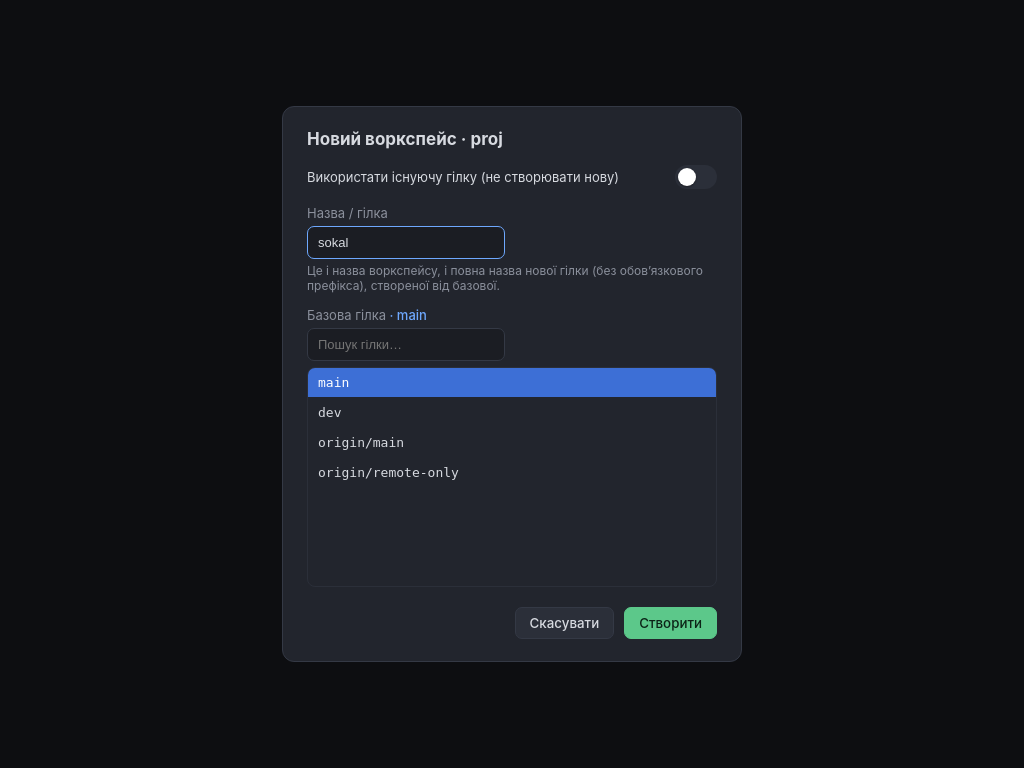
Test: NewWorkspaceModal — existing branch › offers plain branch names only — origin-only ones included, no remote-tracking refs
Expected: the text "dev" is shown, [308,398,716,428]
Click the text "Використати існуючу гілку (не створювати нову)" at (463, 177), box [307,169,619,185]
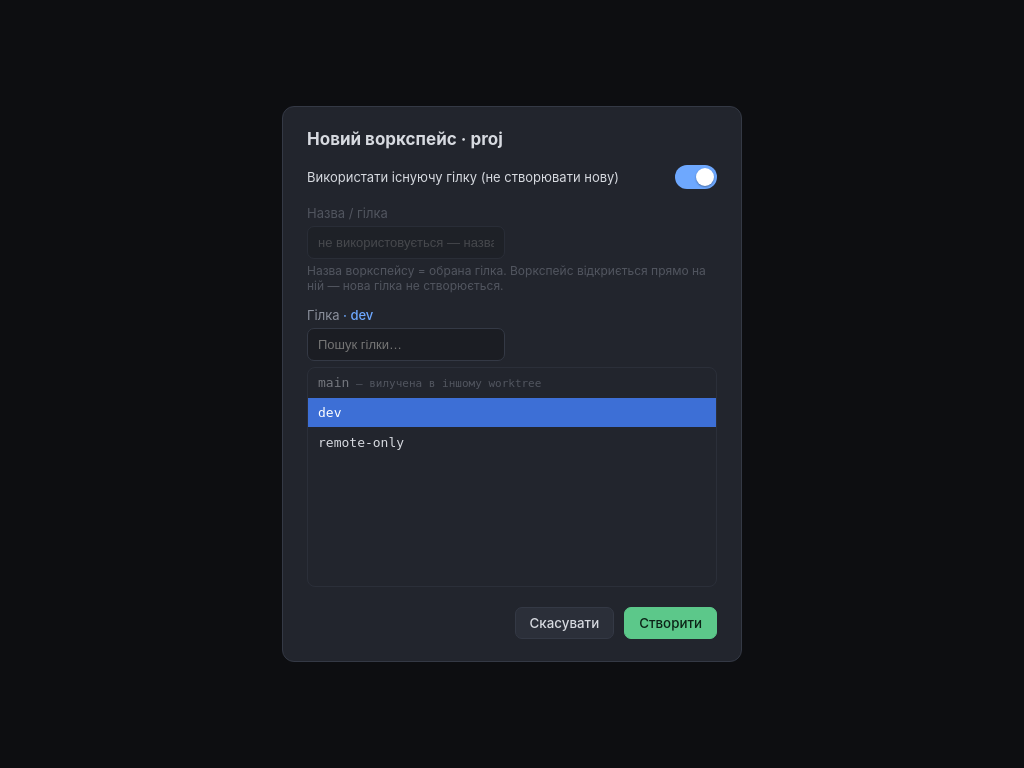
Expected: the text "remote-only" is shown, [318,435,404,450]
Expected: the text "origin/main" is gone
Expected: the text "origin/remote-only" is gone
